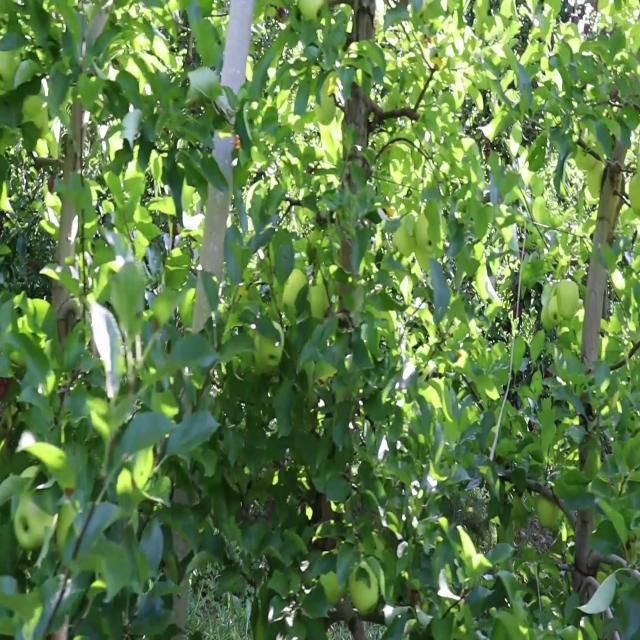apple: (14, 492, 55, 546), (13, 59, 48, 116), (350, 561, 380, 613), (257, 318, 284, 371), (283, 269, 306, 319), (318, 566, 346, 607), (392, 213, 417, 258), (315, 78, 337, 128), (535, 494, 563, 532), (307, 278, 329, 323), (557, 279, 579, 322), (573, 130, 595, 170), (416, 214, 437, 254), (0, 49, 15, 89), (628, 170, 640, 219), (587, 164, 603, 198), (550, 299, 562, 325)
